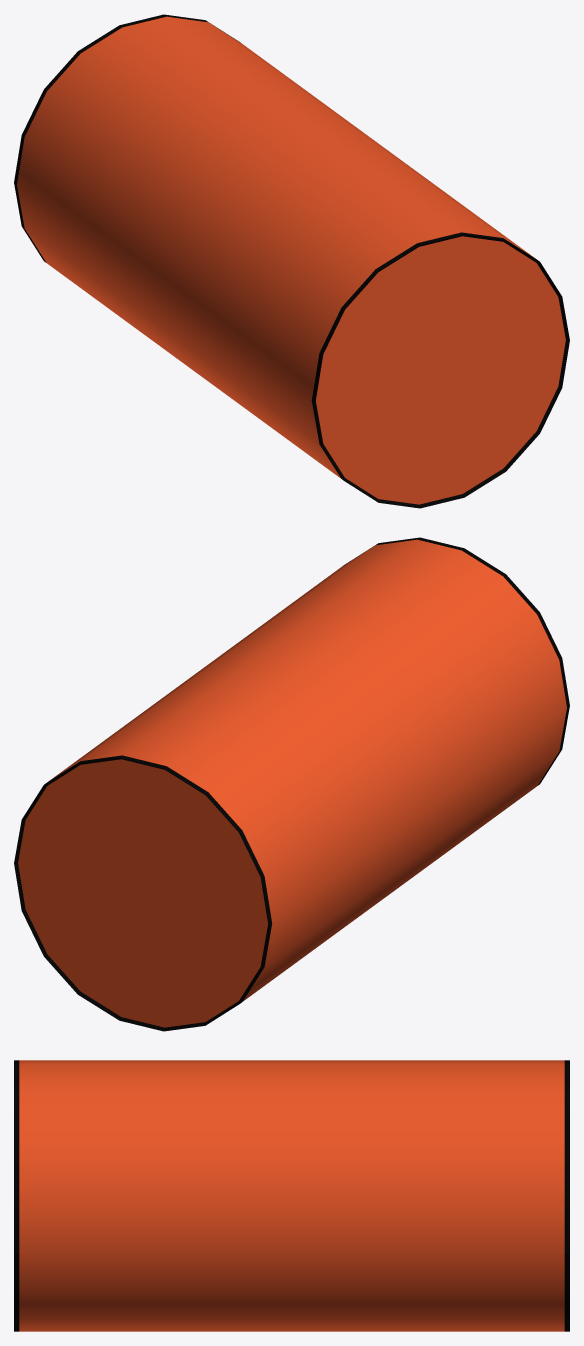
File: cylinder_orange.obj
3 views of the same model, one above another, from view 1: azimuth 30°, elevation 25°; view 2: azimuth 150°, elevation 25°; view 3: azimuth 270°, elevation 25° (orthographic). The views are drawn at different scales.
Parts seen in each view (by area): view 1: cylinder, cylinder.001; view 2: cylinder, cylinder.001; view 3: cylinder, cylinder.001.
Part boxes in pixels (x1,y1,x2,y2): cylinder: (17, 16, 565, 504); cylinder.001: (14, 14, 569, 508); cylinder: (18, 539, 566, 1027); cylinder.001: (14, 537, 569, 1031); cylinder: (19, 1060, 564, 1331); cylinder.001: (14, 1060, 569, 1331).
Bounding box in the file's own units: 0.05 × 0.0492 × 0.102.
